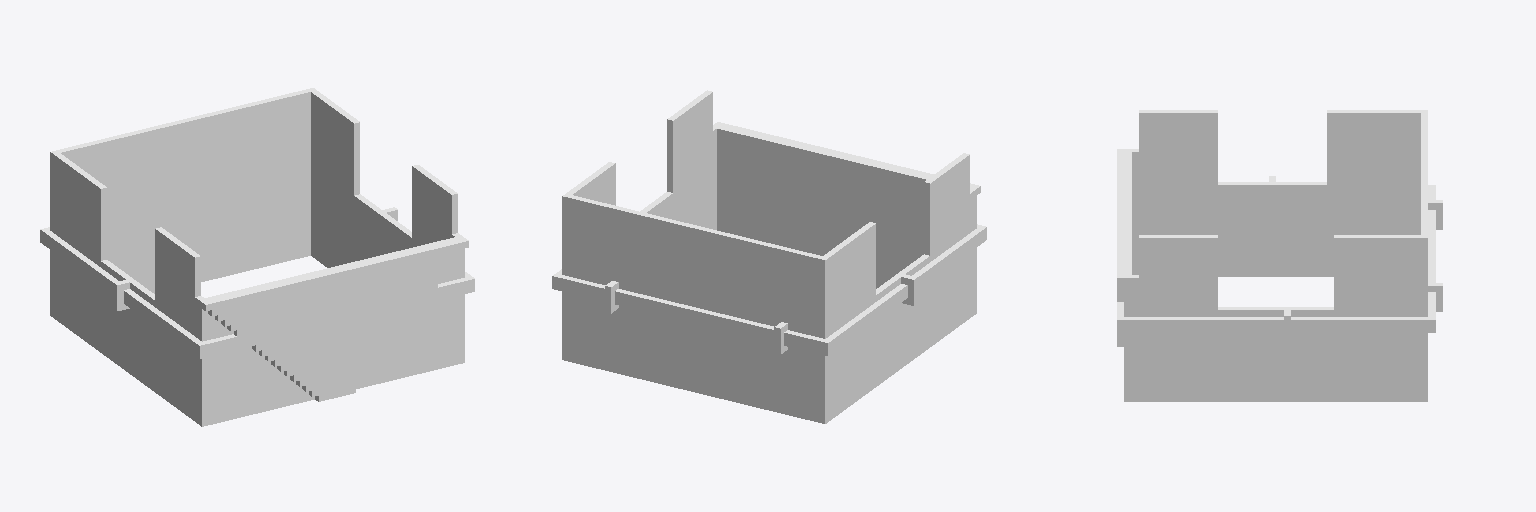
Rendered from BossArmorPiece1.obj.
3 renders of one model, left to right at view 1: azimuth 30°, elevation 25°; view 2: azimuth 150°, elevation 25°; view 3: azimuth 270°, elevation 25°, orthographic.
Size of the model in its own units: 46 by 25 by 45.